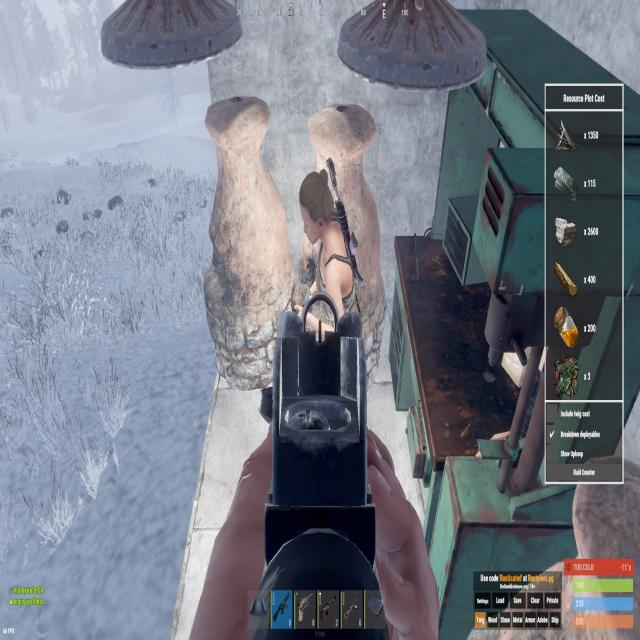Player: (296, 171, 364, 346)
